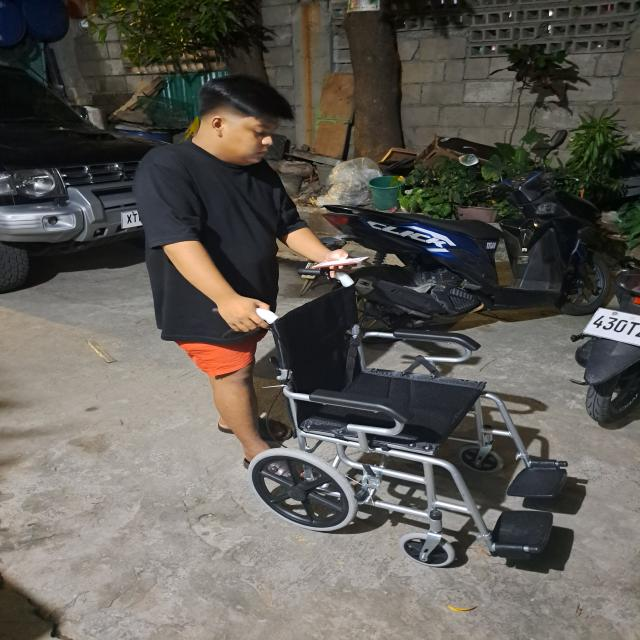wheelchairs: (252, 269, 580, 574)
